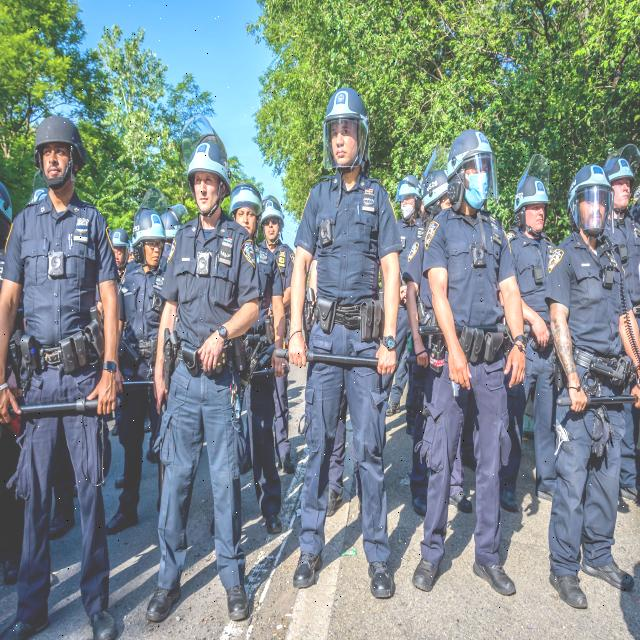police: (0, 87, 125, 640), (286, 54, 407, 563), (154, 124, 273, 640), (424, 91, 526, 604), (553, 128, 640, 593), (214, 178, 292, 564), (104, 202, 172, 594), (393, 141, 451, 598), (505, 142, 567, 560)
